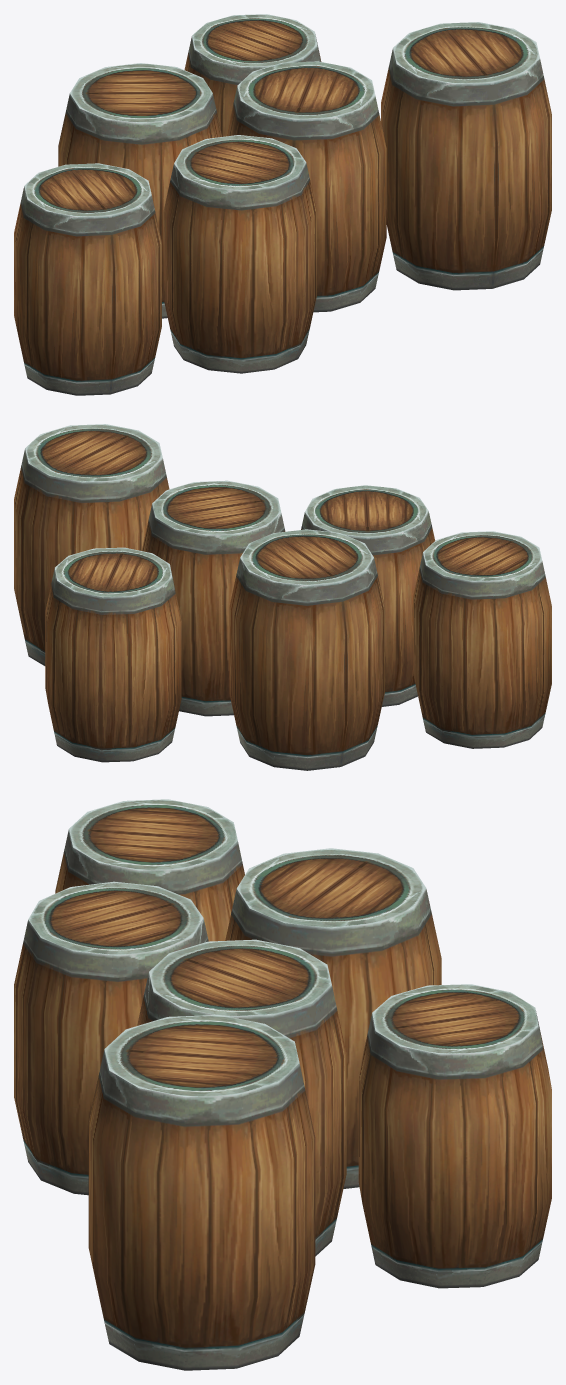
File: Barrels_Preset_02.FBX
3 views of the same model, one above another, from view 1: azimuth 30°, elevation 25°; view 2: azimuth 150°, elevation 25°; view 3: azimuth 270°, elevation 25° (orthographic). The views are drawn at different scales.
Visible parts, largest first — view 1: Barrels_Preset_02; view 2: Barrels_Preset_02; view 3: Barrels_Preset_02.
Boxes of the visible parts, x1,y1,x2,y2 form: Barrels_Preset_02: [14, 14, 551, 395]; Barrels_Preset_02: [14, 424, 551, 770]; Barrels_Preset_02: [14, 799, 551, 1370].
Bounding box in the file's own units: 282 × 185 × 104.
